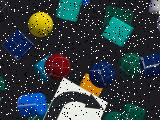Right: (43, 77, 108, 120)
